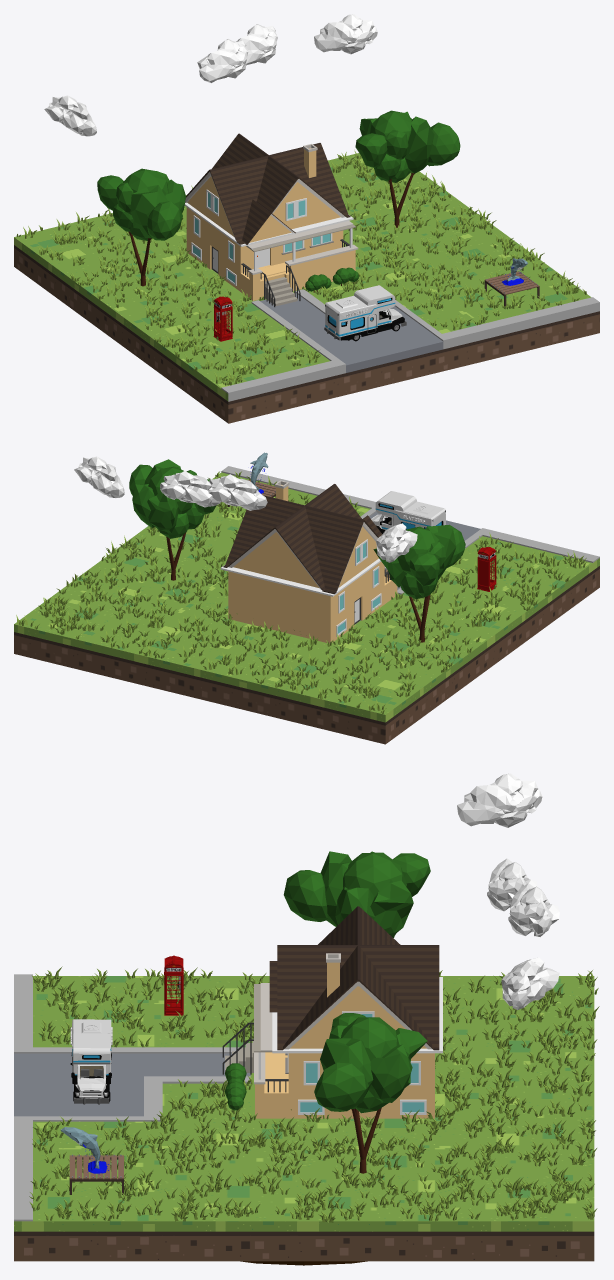
3 views of the same model, one above another, from view 1: azimuth 30°, elevation 25°; view 2: azimuth 150°, elevation 25°; view 3: azimuth 270°, elevation 25° (orthographic). The views are drawn at different scales.
Parts seen in each view (by area): view 1: Cube.006, Cube.235, Circle.012_Grass_0.192, Cube.007, tree, tree.001, VEHICLES_CAMPER, OBJRANDOM_PHONEBOOTH, Cube.009; view 2: Cube.006, Cube.235, Circle.012_Grass_0.192, Cube.007, tree.001, tree, VEHICLES_CAMPER, OBJRANDOM_PHONEBOOTH; view 3: Cube.006, Circle.012_Grass_0.192, Cube.235, tree, Cube.007, tree.001, VEHICLES_CAMPER, Cube.009, OBJRANDOM_PHONEBOOTH, ANIMAL_DELFIN.
Boxes of the visible parts, bbox=[...] form: Cube.006: bbox=[14, 153, 599, 423]; Cube.235: bbox=[184, 133, 358, 307]; Circle.012_Grass_0.192: bbox=[16, 150, 586, 385]; Cube.007: bbox=[44, 14, 377, 136]; tree: bbox=[355, 110, 460, 227]; tree.001: bbox=[97, 168, 185, 286]; VEHICLES_CAMPER: bbox=[324, 285, 406, 341]; OBJRANDOM_PHONEBOOTH: bbox=[213, 296, 232, 341]; Cube.009: bbox=[484, 271, 539, 306]; Cube.006: bbox=[14, 466, 599, 744]; Cube.235: bbox=[220, 480, 397, 643]; Circle.012_Grass_0.192: bbox=[16, 471, 586, 713]; Cube.007: bbox=[74, 456, 417, 562]; tree.001: bbox=[373, 524, 465, 642]; tree: bbox=[129, 459, 216, 580]; VEHICLES_CAMPER: bbox=[371, 491, 445, 533]; OBJRANDOM_PHONEBOOTH: bbox=[477, 547, 496, 591]; Cube.006: bbox=[14, 974, 594, 1261]; Circle.012_Grass_0.192: bbox=[29, 966, 599, 1222]; Cube.235: bbox=[222, 906, 442, 1118]; tree: bbox=[314, 1013, 427, 1173]; Cube.007: bbox=[457, 773, 559, 1009]; tree.001: bbox=[283, 851, 430, 937]; VEHICLES_CAMPER: bbox=[70, 1019, 112, 1104]; Cube.009: bbox=[69, 1154, 123, 1194]; OBJRANDOM_PHONEBOOTH: bbox=[164, 955, 183, 1015]; ANIMAL_DELFIN: bbox=[60, 1127, 108, 1174].
Bounding box in the file's own units: 4071 × 2242 × 4040.
Materials: 45 (3 with a texture image).
